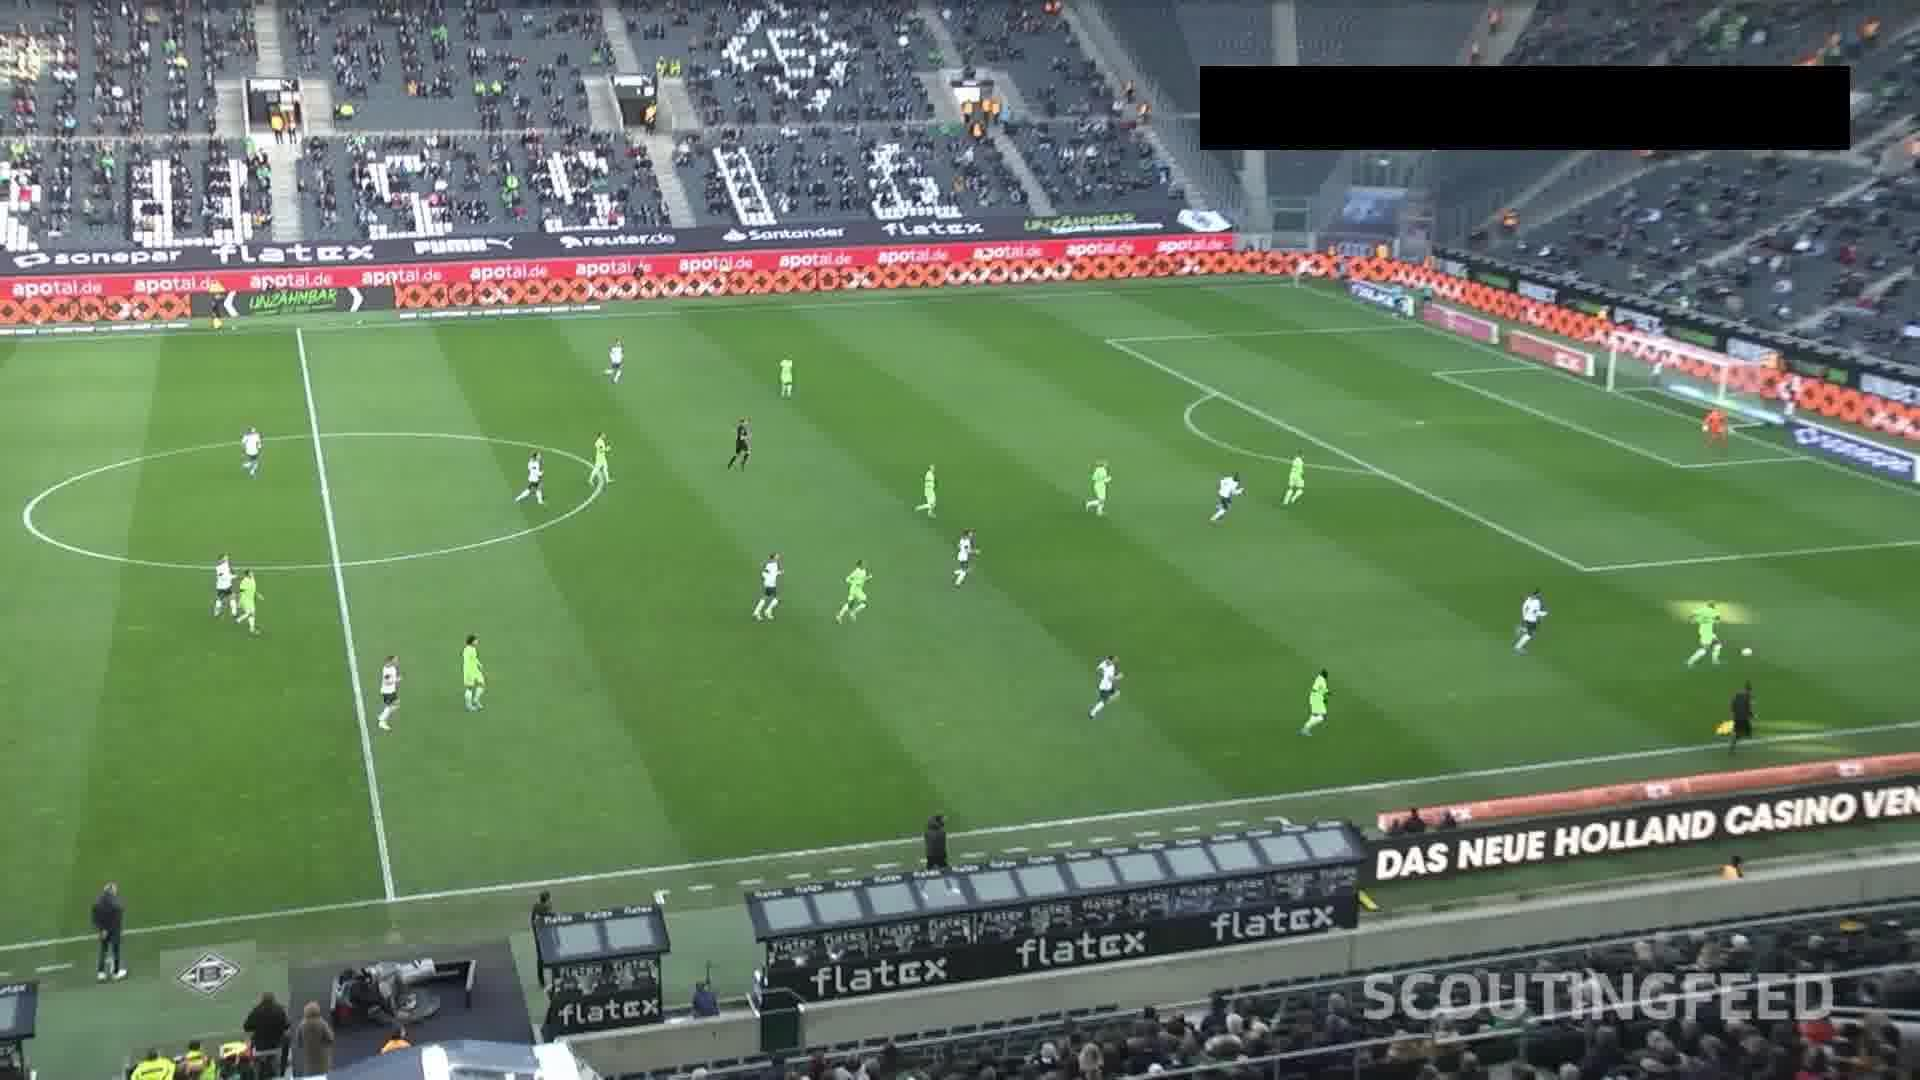football: (1741, 647, 1753, 655)
